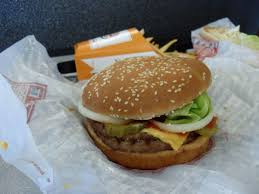hamburger: (77, 54, 220, 170)
